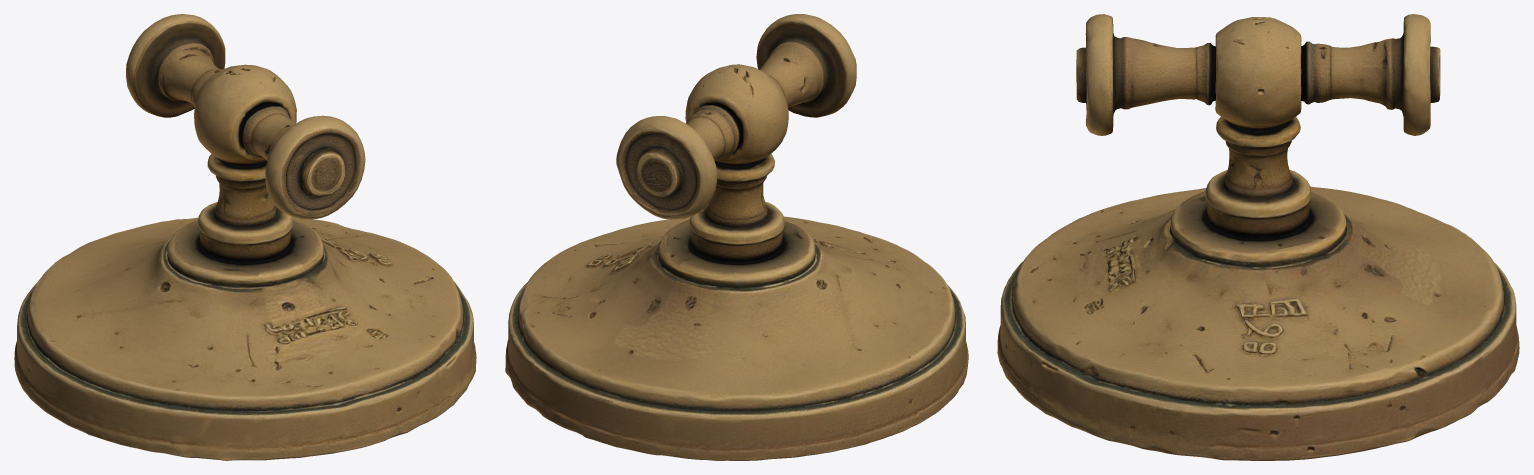
File: hand-cannon.glb
3 views of the same model, side by side, from view 1: azimuth 30°, elevation 25°; view 2: azimuth 150°, elevation 25°; view 3: azimuth 270°, elevation 25° (orthographic). The views are drawn at different scales.
Visible parts, largest first — view 1: tripo_node_777c12d9-6b4b-429f-960d-7fb3a2782949; view 2: tripo_node_777c12d9-6b4b-429f-960d-7fb3a2782949; view 3: tripo_node_777c12d9-6b4b-429f-960d-7fb3a2782949.
Boxes of the visible parts, bbox=[...] form: tripo_node_777c12d9-6b4b-429f-960d-7fb3a2782949: bbox=[14, 14, 476, 460]; tripo_node_777c12d9-6b4b-429f-960d-7fb3a2782949: bbox=[505, 14, 968, 460]; tripo_node_777c12d9-6b4b-429f-960d-7fb3a2782949: bbox=[997, 14, 1519, 460].
Size of the model in its own units: 0.9988 by 0.7061 by 1.
Materials: 1 (1 with a texture image).
